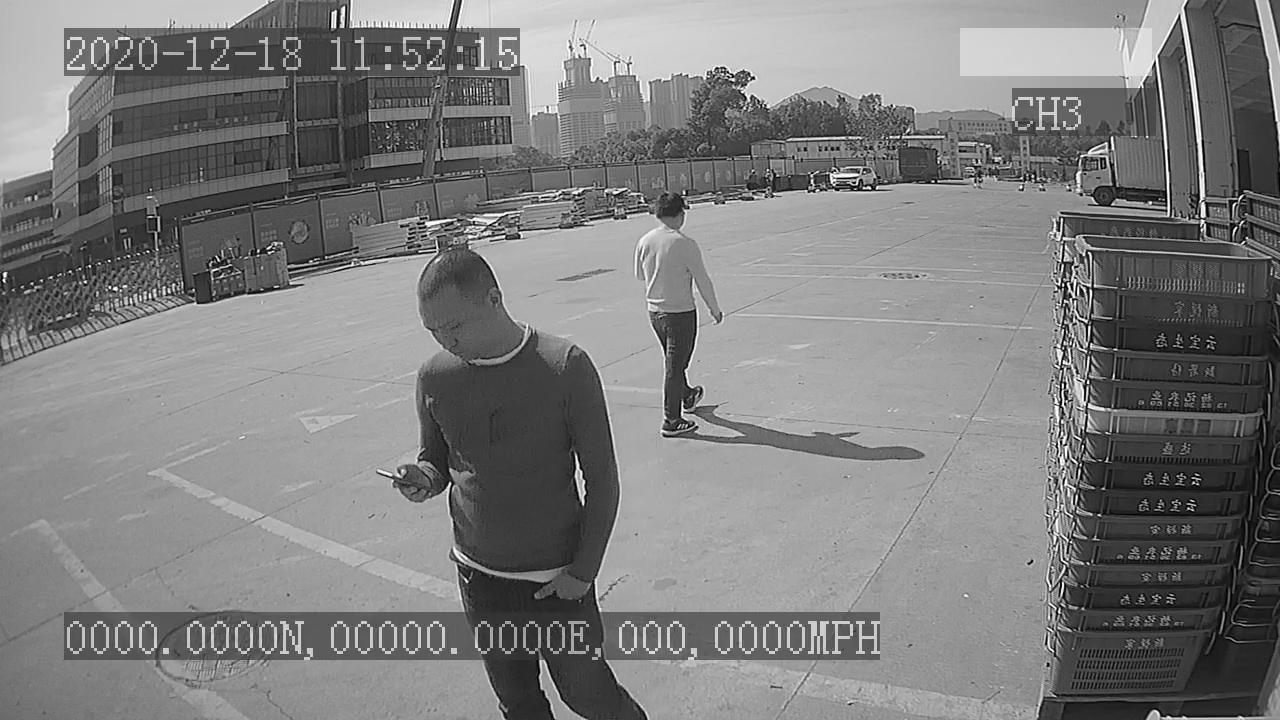person: (627, 185, 726, 442)
